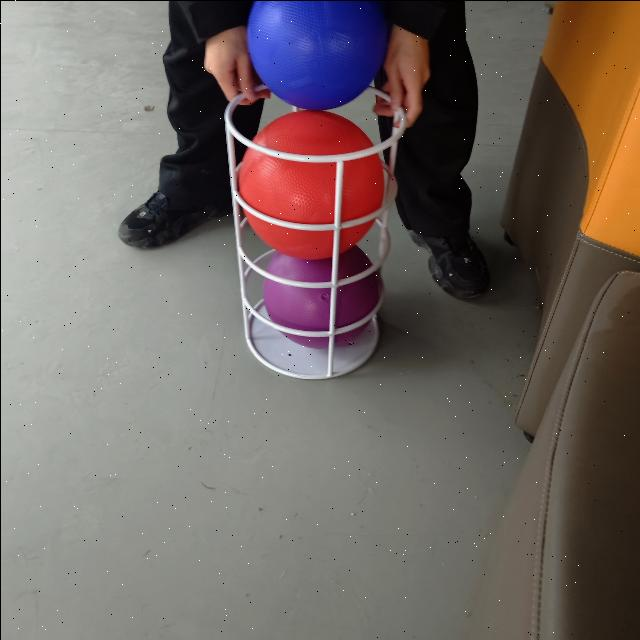B: (247, 0, 377, 110)
P: (264, 249, 378, 345)
R: (237, 110, 385, 260)
S: (222, 91, 406, 379)
